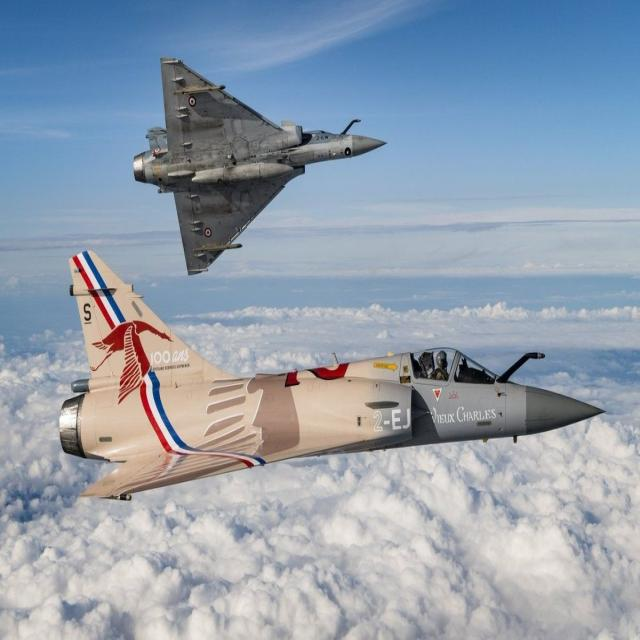MIL_Plane: (59, 250, 606, 501), (133, 57, 388, 276)
